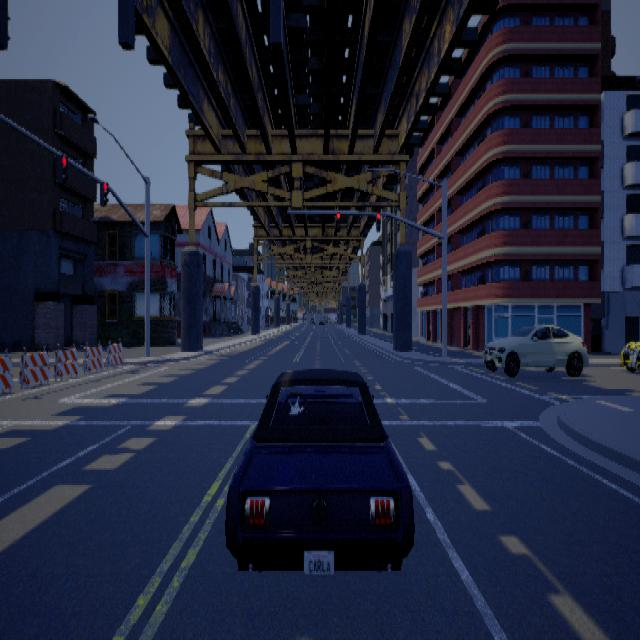red_light: (57, 154, 67, 186), (99, 180, 108, 206), (375, 210, 380, 230), (336, 210, 339, 230)
vehicle: (224, 367, 414, 573), (482, 324, 588, 376), (619, 340, 639, 371)
